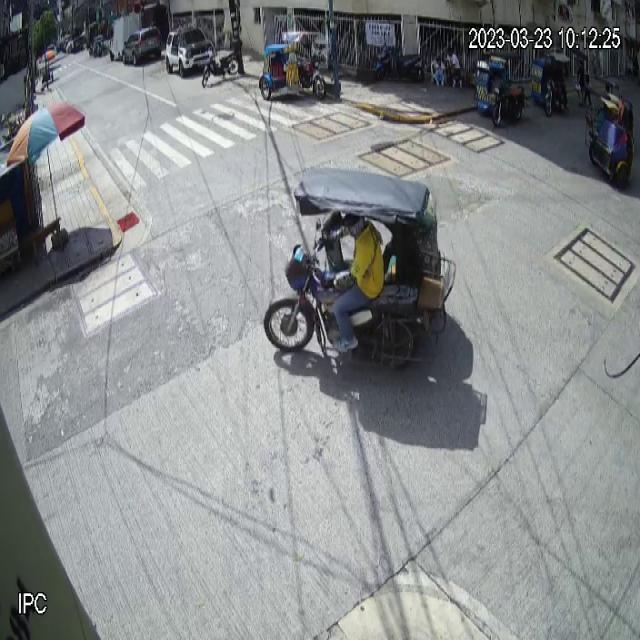Tricycle: (263, 165, 456, 369), (586, 75, 635, 192), (258, 30, 326, 102), (475, 51, 526, 129), (530, 52, 571, 118)
